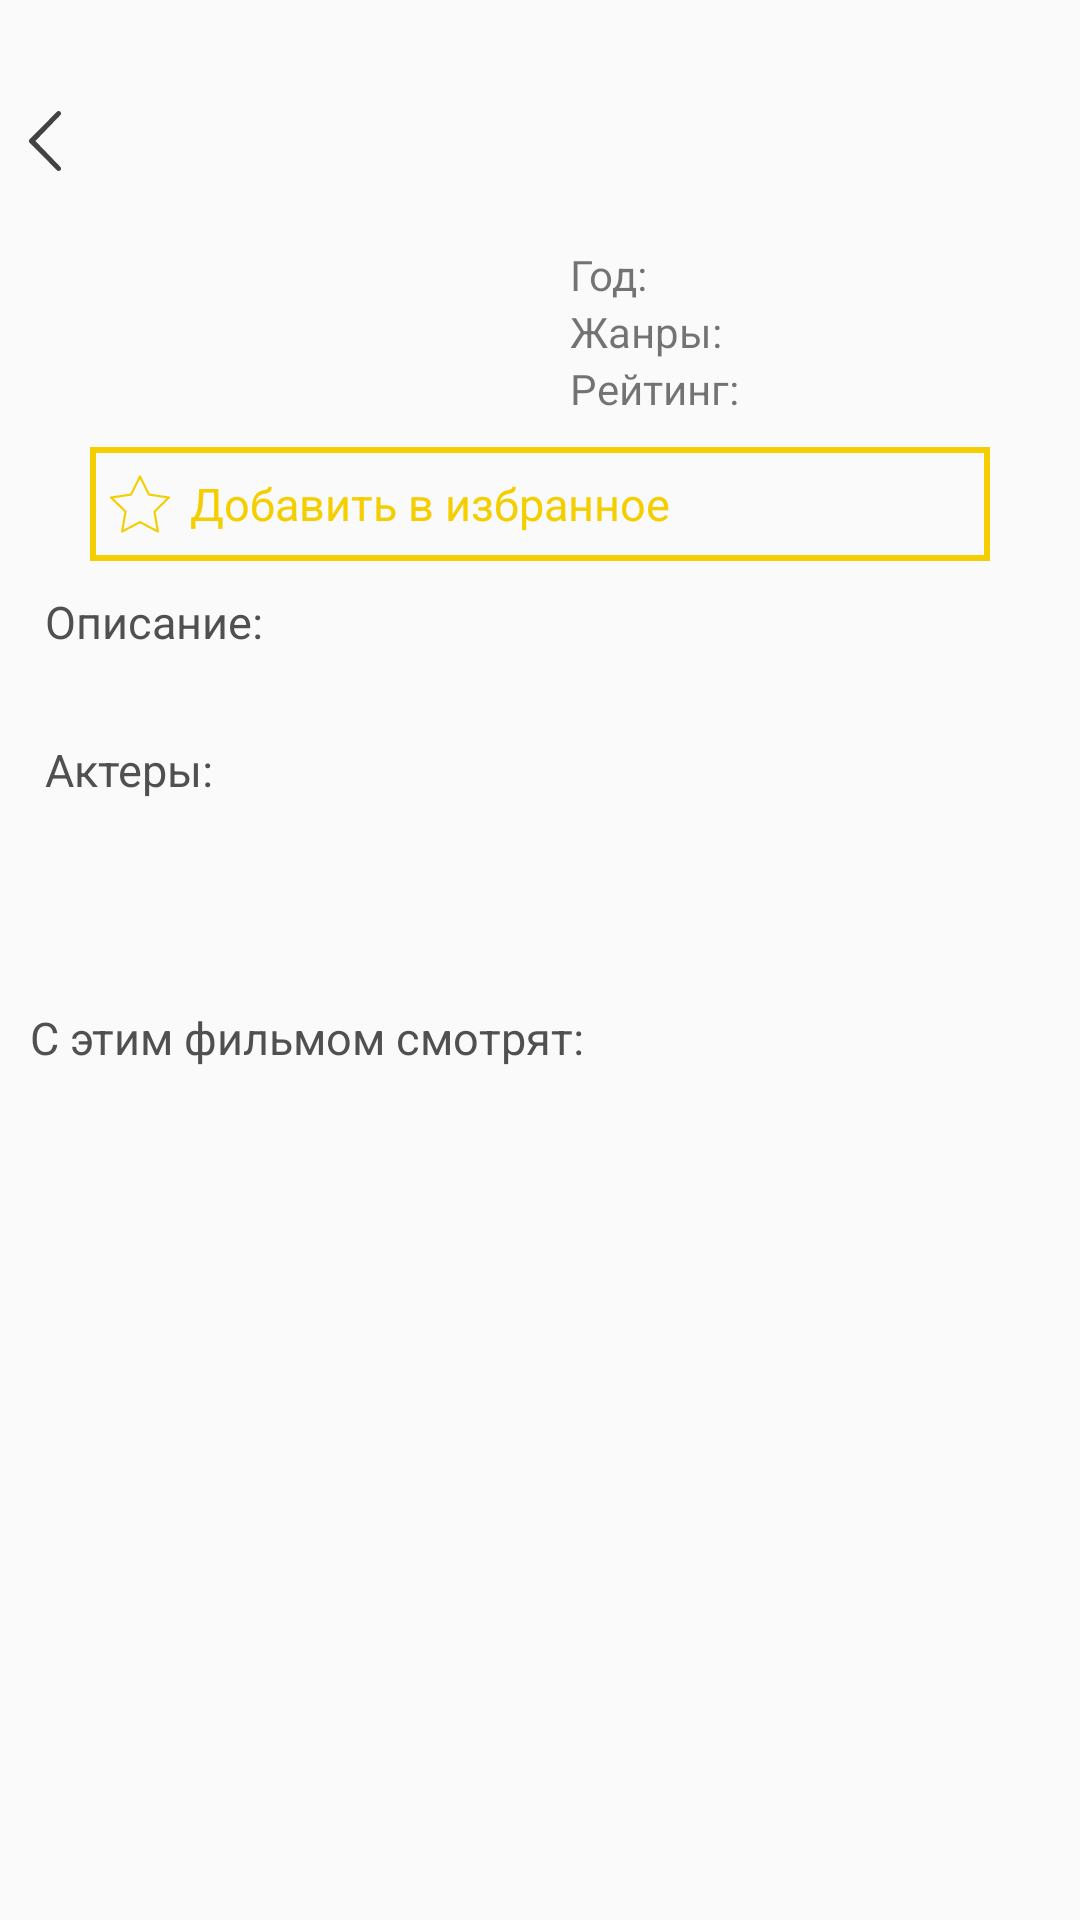

Where to tap for icons on this 1080w x 1920h app screen, as [x,y]:
keyboard arrow left: [45,141]
star: [140,504]
